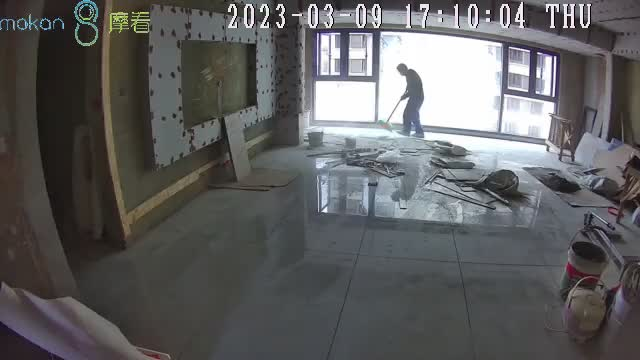people: (396, 61, 425, 138)
window: (313, 30, 558, 142)
